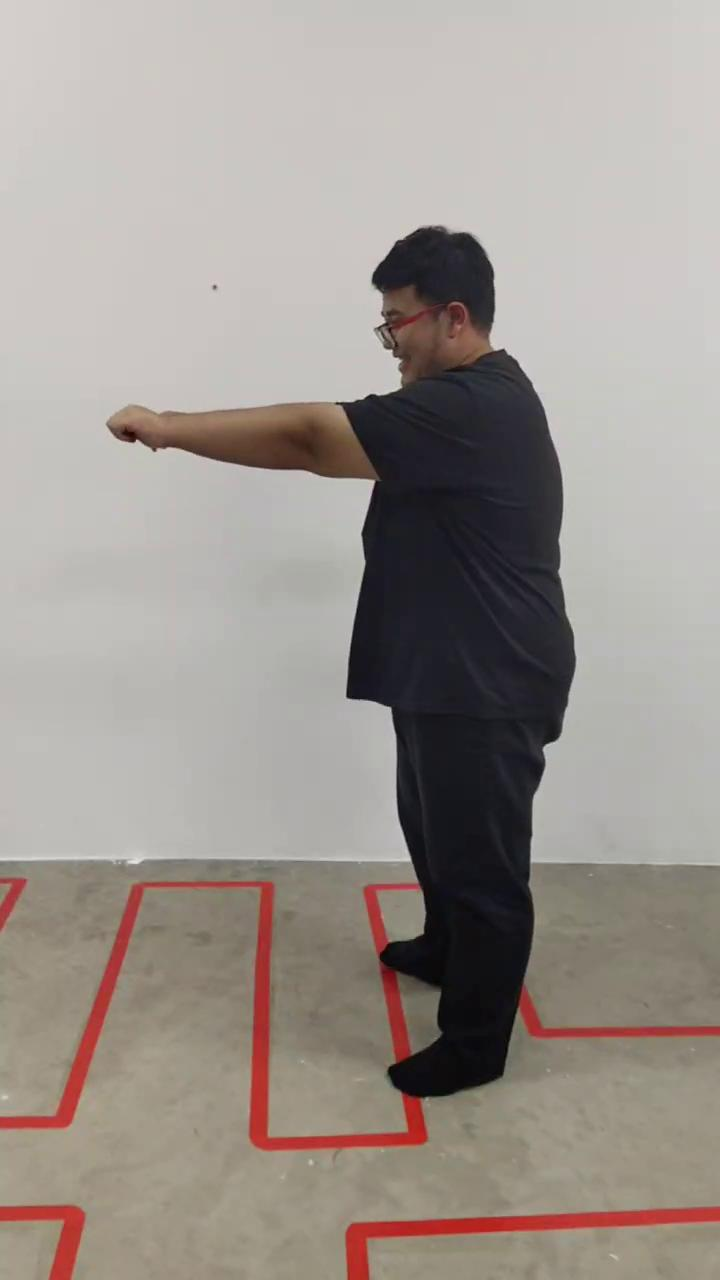squat up: (109, 225, 576, 1101)
